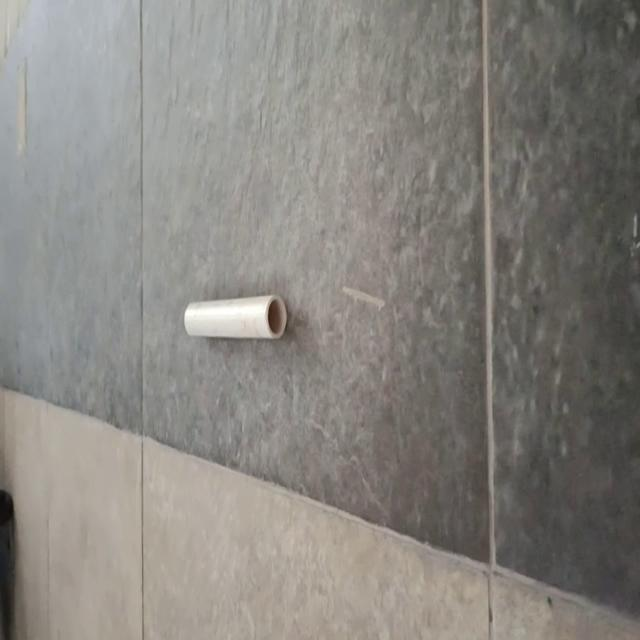Cube: (183, 292, 287, 340)
